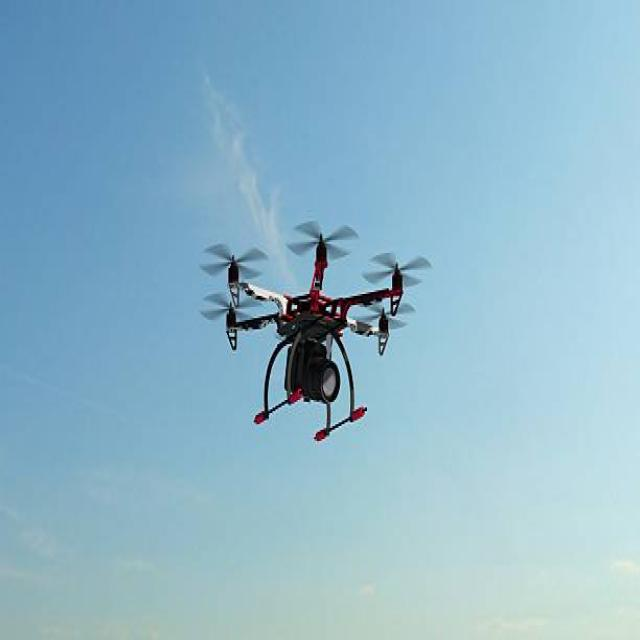drone: (198, 218, 432, 442)
